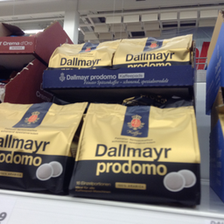coffee: (67, 101, 201, 204), (1, 102, 87, 193), (112, 37, 193, 68), (48, 39, 117, 70)
